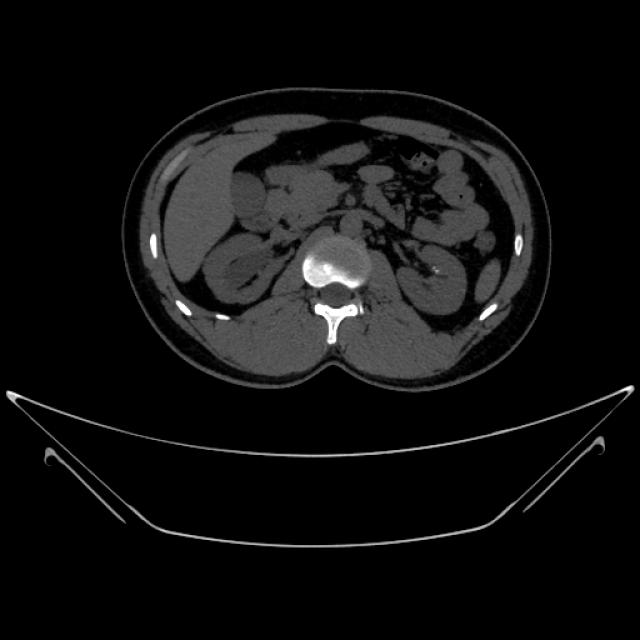kidney: (200, 232, 289, 306), (395, 236, 470, 320)
stone: (431, 265, 442, 274)
